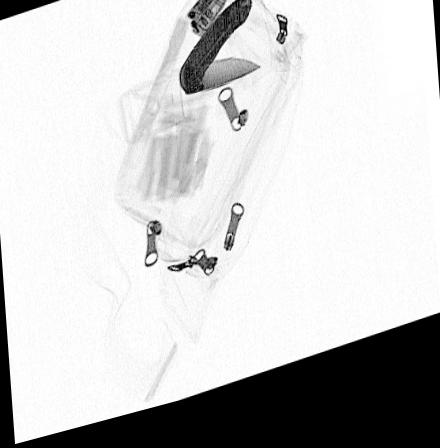Knife: (178, 5, 263, 106)
